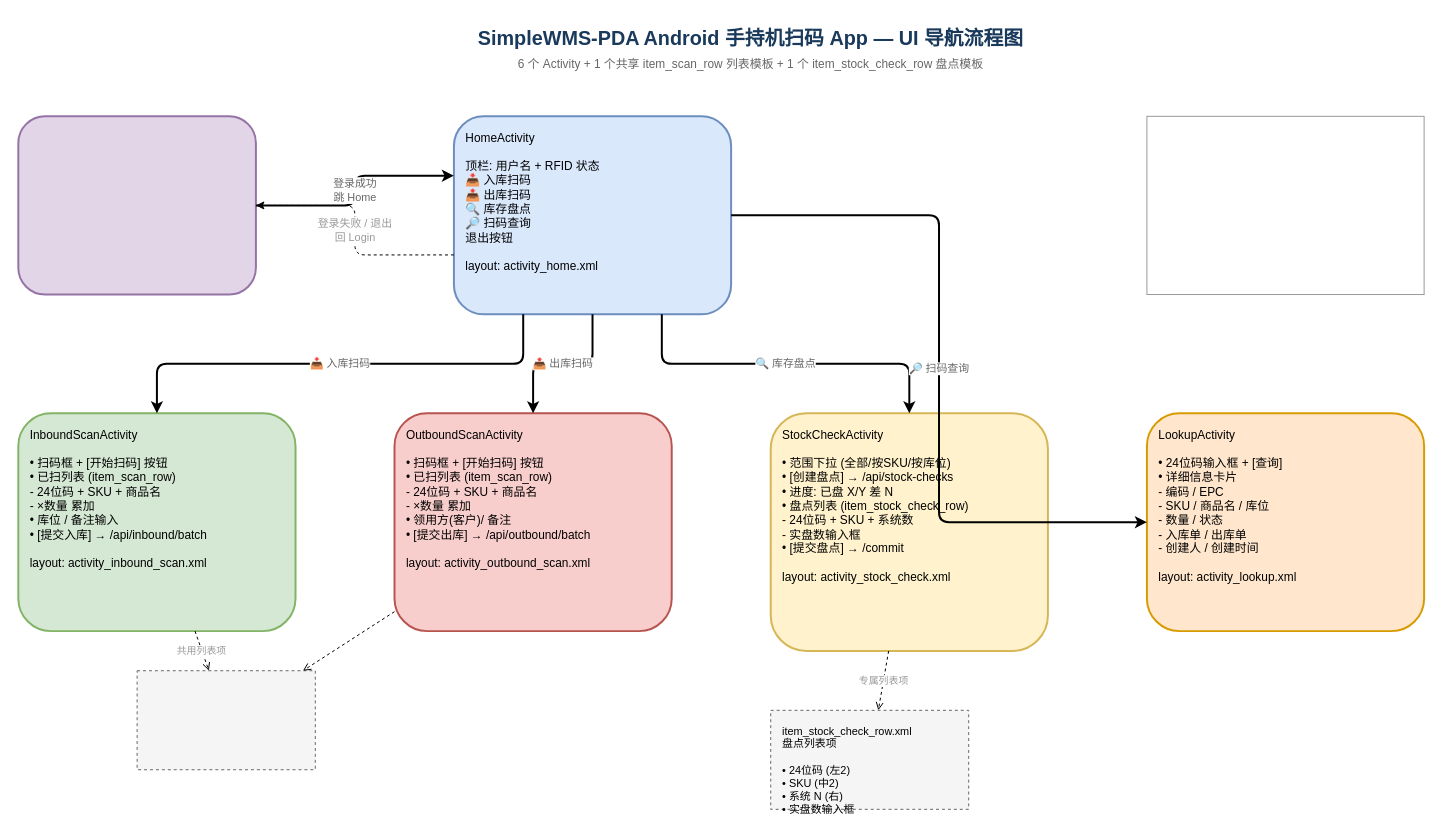
The diagram is 1441 pixels wide and 833 high, and some of its shapes have lost their labels. The box of each missing label's shape, as (x1, y1, x2, y2) in pixels:
item_scan_row.xml 共用列表项 (入/出库扫码) • SKU (左) • 商品名 (中) • ×数量 (右): (136, 670, 315, 770)
LoginActivity • 服务器地址输入框(预填) • 用户名 + 密码 • 登录按钮 layout: activity_login.xml: (17, 115, 256, 295)
图例 Login 紫色 | Home 蓝色 入库 绿色 | 出库 红色 盘点 黄色 | 查询 橙色: (1146, 115, 1424, 295)
